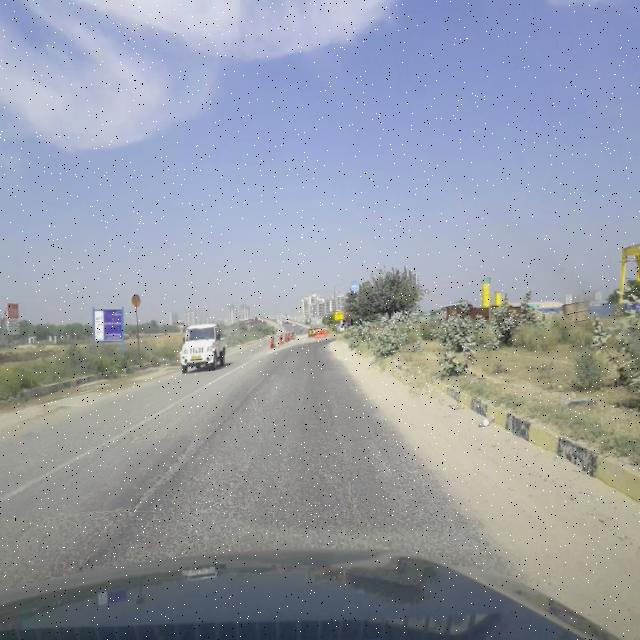D20: (80, 398, 475, 562)
D40: (129, 432, 206, 514)
